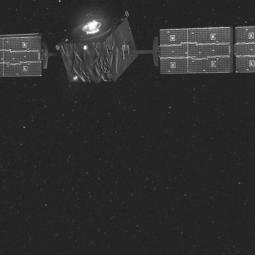smart_1: (33, 11, 193, 90)
